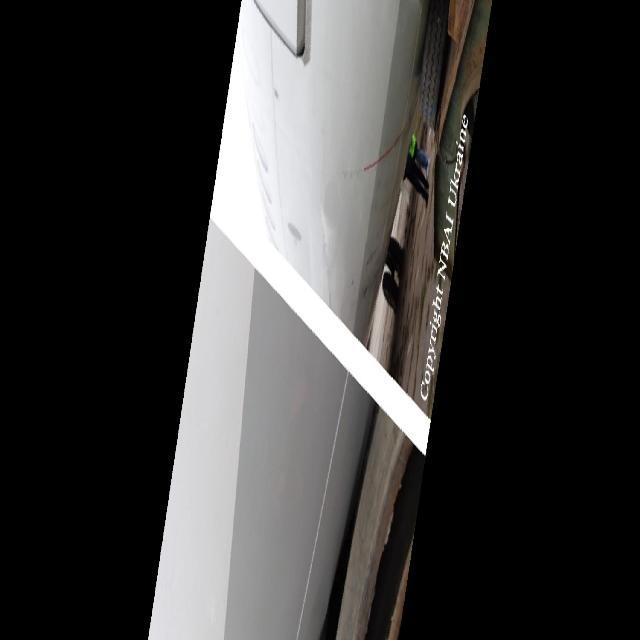dent: (306, 565, 334, 625)
